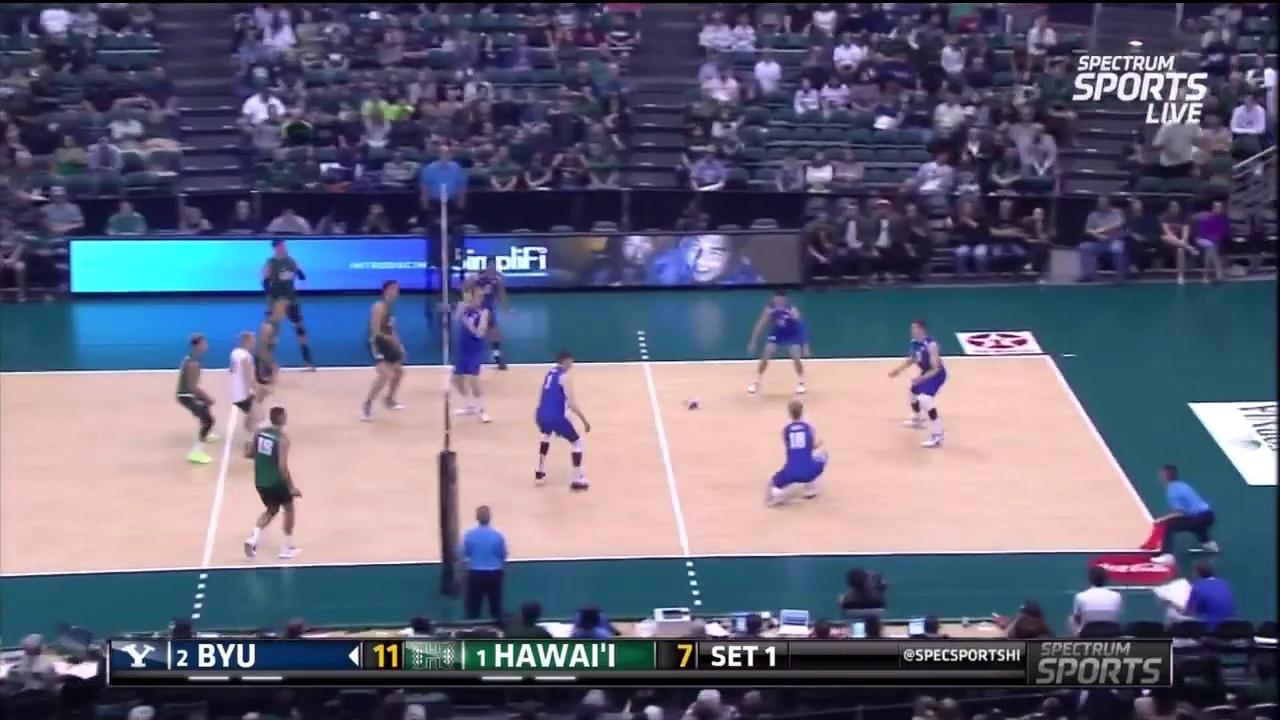player: (446, 287, 506, 434), (168, 324, 228, 467), (247, 409, 303, 557), (533, 357, 594, 486), (257, 236, 314, 370), (461, 249, 519, 374), (747, 295, 814, 396), (363, 282, 410, 417), (896, 323, 948, 440), (773, 401, 826, 506), (224, 326, 264, 459), (245, 296, 286, 416)
refree: (1132, 459, 1231, 564), (443, 497, 517, 622), (416, 136, 474, 259)
